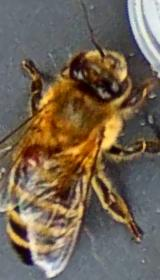varroa_mite: (12, 132, 54, 171)
